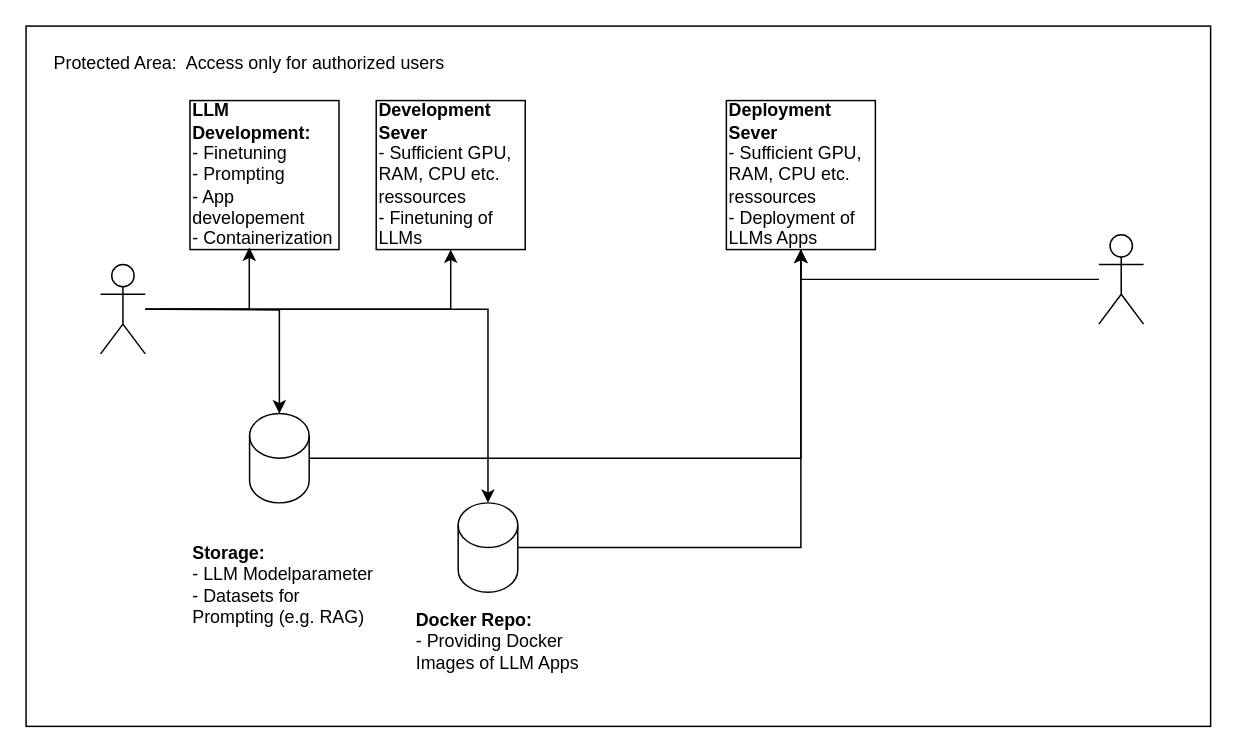
Image size: 1237x752. Some labels were removed from this diagram. Each missing label, with the centre of its shape:
LLM Developer Team: [122,308]
LLM User: [1120,278]
